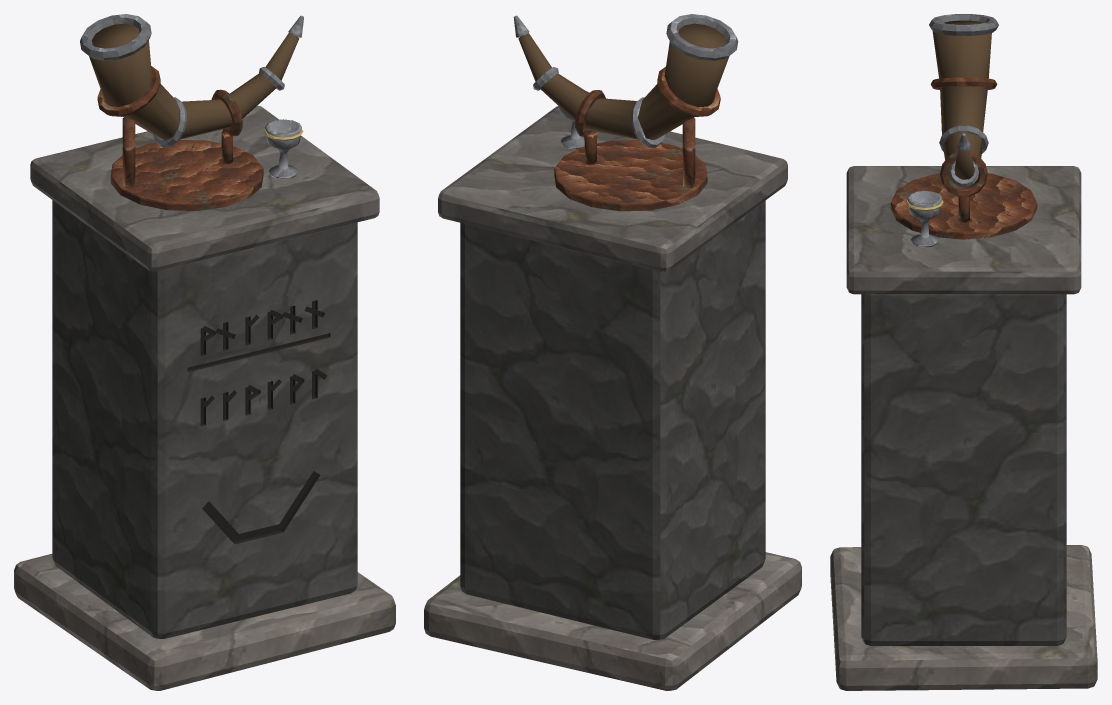
Rendered from th_drinking_horn.glb.
The picture shows the model from 3 angles, left to right: view 1: azimuth 30°, elevation 25°; view 2: azimuth 150°, elevation 25°; view 3: azimuth 270°, elevation 25°; orthographic projection. The views are drawn at different scales.
Parts seen in each view (by area): view 1: model; view 2: model; view 3: model.
Boxes of the visible parts, x1,y1,x2,y2 form: model: (14, 14, 395, 690); model: (424, 14, 801, 690); model: (830, 14, 1097, 690).
Size of the model in its own units: 0.5727 by 1.31 by 0.5469.
9 materials, 6 textured.
